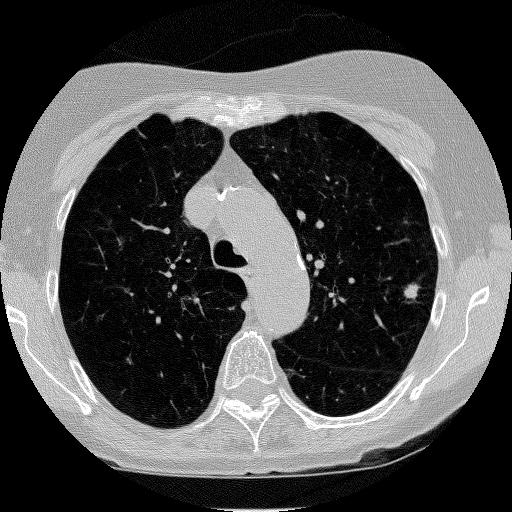nodule: (401, 281, 422, 302)
